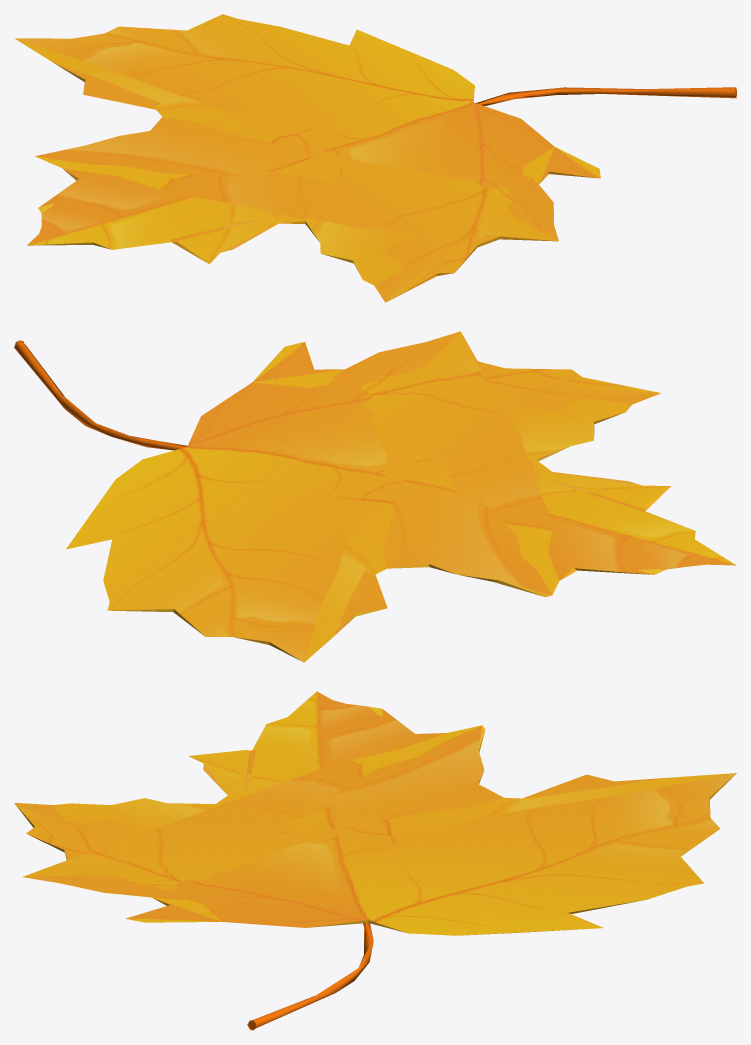
File: list1.fbx
3 views of the same model, one above another, from view 1: azimuth 30°, elevation 25°; view 2: azimuth 150°, elevation 25°; view 3: azimuth 270°, elevation 25° (orthographic). The views are drawn at different scales.
Visible parts, largest first — view 1: list1; view 2: list1; view 3: list1.
Part boxes in pixels (box(x1,y1,x2,y2)): list1: box(14, 14, 736, 302); list1: box(14, 331, 736, 662); list1: box(14, 691, 736, 1030).
Bounding box in the file's own units: 28.24 × 0.8091 × 24.9.
Materials: 2 (1 with a texture image).
